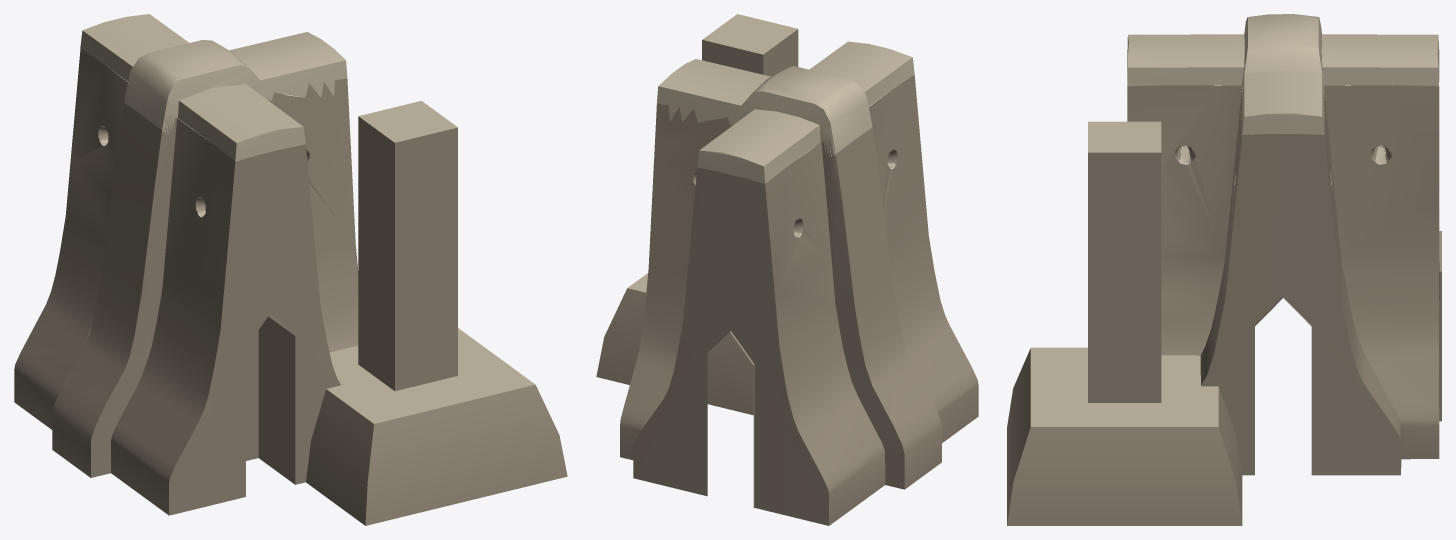
Rendered from stone-wall-nes-fill.glb.
The picture shows the model from 3 angles, left to right: view 1: azimuth 30°, elevation 25°; view 2: azimuth 150°, elevation 25°; view 3: azimuth 270°, elevation 25°; orthographic projection. The views are drawn at different scales.
Visible parts, largest first — view 1: body; view 2: body; view 3: body.
Part boxes in pixels (x1,y1,x2,y2): body: (14,14,567,525); body: (596,14,978,525); body: (1007,14,1441,525).
Bounding box in the file's own units: 1.32 × 1.32 × 1.37.
